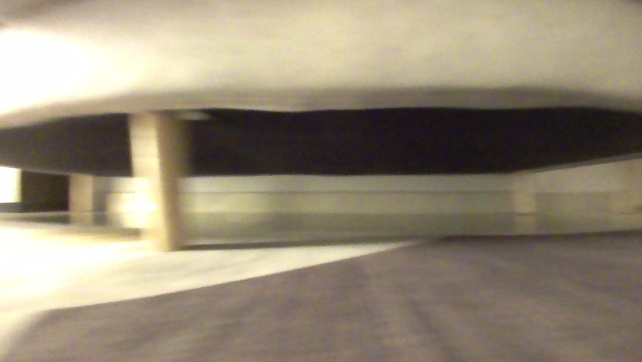blanket: (0, 221, 640, 361)
